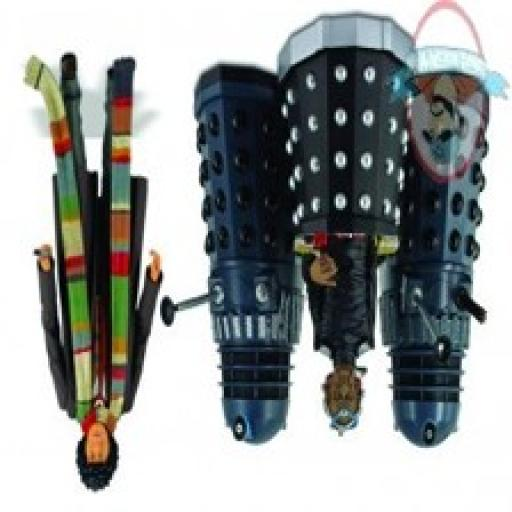dalek: (157, 60, 301, 446), (378, 83, 507, 449), (254, 8, 426, 256)
